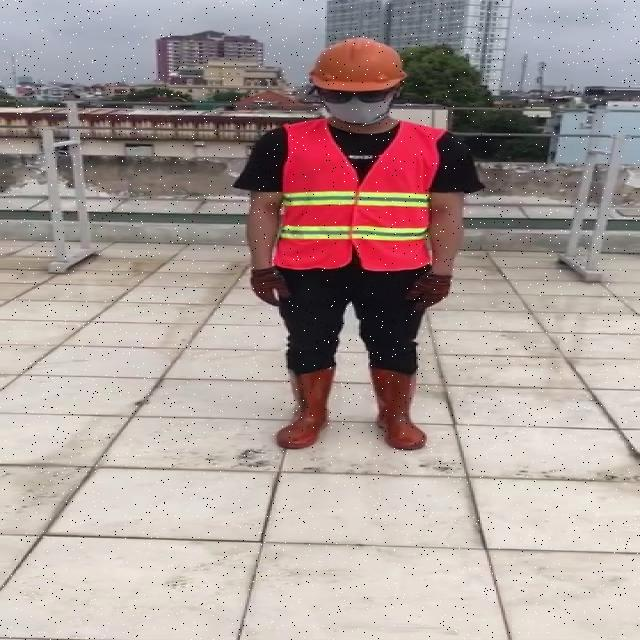Hard_hat: (302, 35, 412, 98)
Vest: (272, 119, 436, 272)
